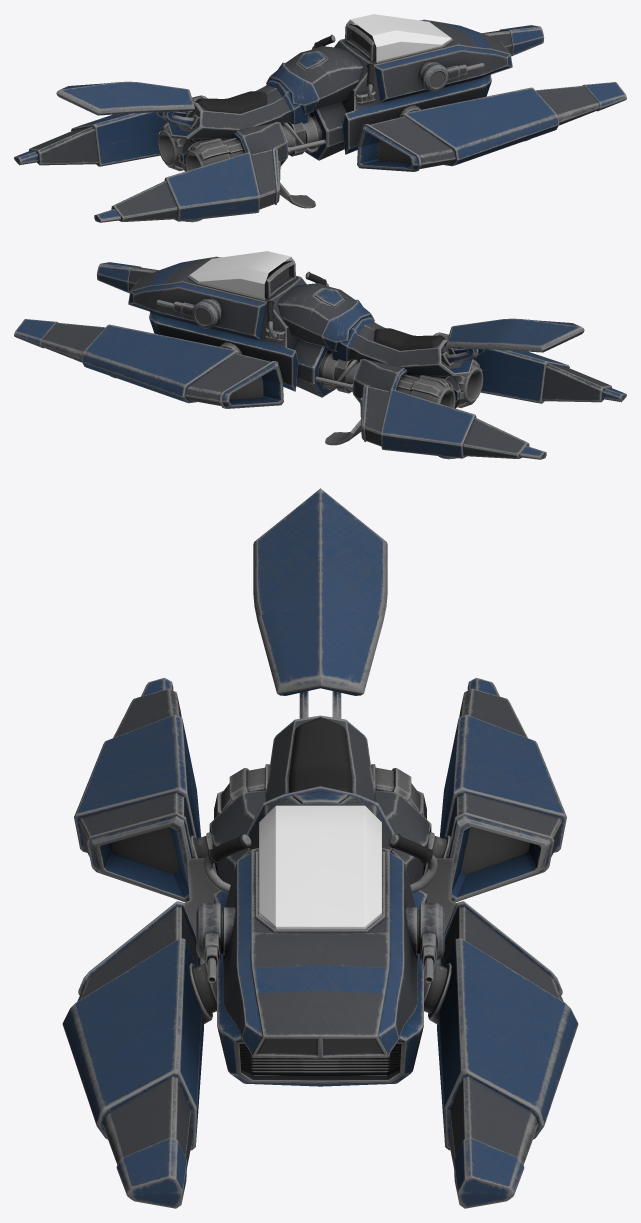
The model's file is SM_HoverBike.fbx.
3 renders of one model, top to bottom at view 1: azimuth 30°, elevation 25°; view 2: azimuth 150°, elevation 25°; view 3: azimuth 270°, elevation 25°, orthographic. The views are drawn at different scales.
Parts seen in each view (by area): view 1: HoverFins, HoverBikeBlockout, HoverBikeSeat, HoverBikeEngine, HoverBikeGas, HoverBikeGlass, HoverBikeChair, HoverBikeEngineCovers, HoverBikeGun, Handle, HoverBikeMuzzle; view 2: HoverFins, HoverBikeBlockout, HoverBikeSeat, HoverBikeEngine, HoverBikeGas, HoverBikeGlass, HoverBikeChair, HoverBikeEngineCovers, HoverBikeGun, Handle, HoverBikeMuzzle; view 3: HoverFins, HoverBikeBlockout, HoverBikeSeat, HoverBikeGlass, HoverBikeEngine, HoverBikeChair, HoverBikeGun, HoverBikeIntake, HoverBikeGas, Handle, HoverBikeEngineCovers, HoverBikeMuzzle (+1 smaller).
Boxes of the visible parts, x1,y1,x2,y2 form: HoverFins: (14,25,626,222); HoverBikeBlockout: (334,19,512,154); HoverBikeSeat: (56,79,314,139); HoverBikeEngine: (157,101,421,208); HoverBikeGas: (266,46,363,114); HoverBikeGlass: (346,14,451,61); HoverBikeChair: (195,91,266,113); HoverBikeEngineCovers: (158,122,243,171); HoverBikeGun: (419,61,448,91); Handle: (312,34,375,104); HoverBikeMuzzle: (446,63,484,79); HoverFins: (14,262,626,459); HoverBikeBlockout: (128,256,306,391); HoverBikeSeat: (326,316,584,376); HoverBikeEngine: (219,338,483,445); HoverBikeGas: (277,283,374,351); HoverBikeGlass: (189,251,294,298); HoverBikeChair: (374,328,445,350); HoverBikeEngineCovers: (397,359,482,408); HoverBikeGun: (192,298,221,328); Handle: (265,271,328,341); HoverBikeMuzzle: (156,300,194,316); HoverFins: (62,678,578,1208); HoverBikeBlockout: (213,848,427,1086); HoverBikeSeat: (253,488,387,801); HoverBikeGlass: (259,805,381,929); HoverBikeEngine: (184,767,456,1024); HoverBikeChair: (289,717,351,792); HoverBikeGun: (196,903,444,960); HoverBikeIntake: (240,1043,400,1072); HoverBikeGas: (246,786,394,852); Handle: (203,834,437,893); HoverBikeEngineCovers: (214,764,426,818); HoverBikeMuzzle: (204,932,436,983).
Bounding box in the file's own units: 333 × 142 × 87.7.
Materials: 2 (1 with a texture image).
